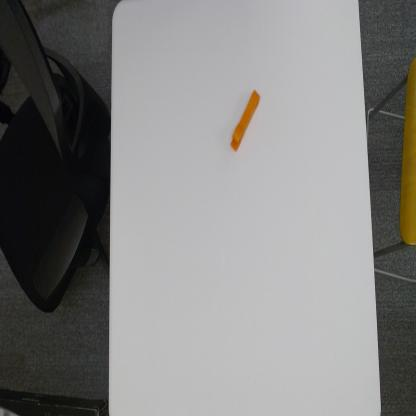Screwdriver: (229, 86, 262, 157)
